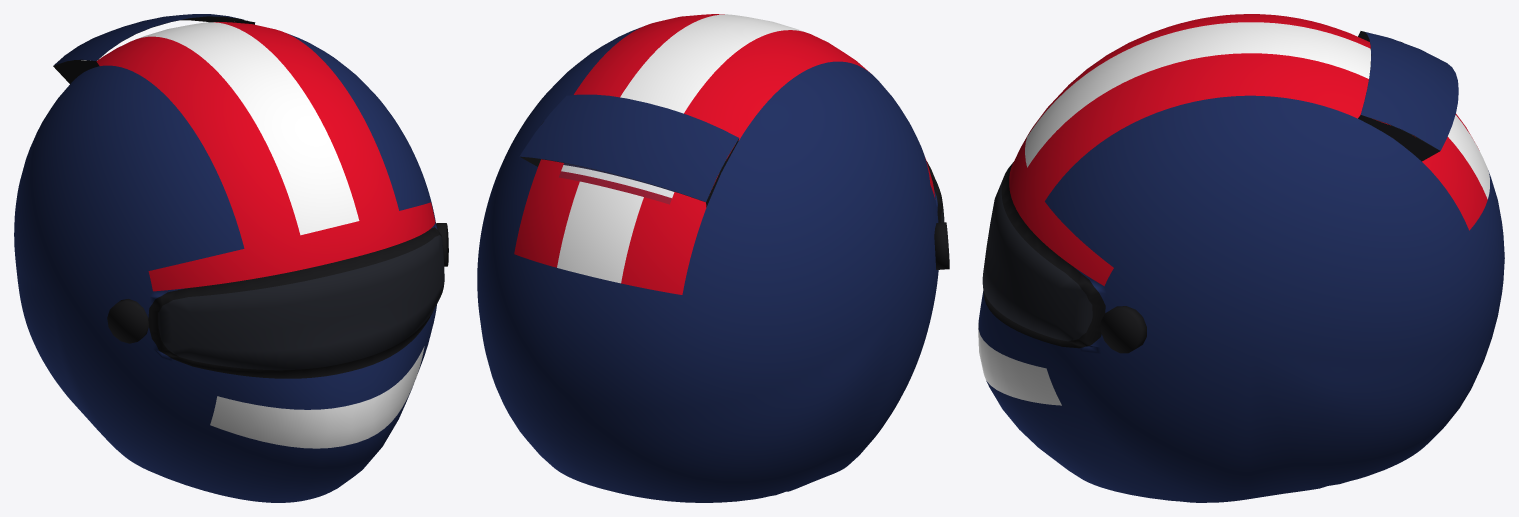
File: ALB.glb
3 renders of one model, left to right at view 1: azimuth 30°, elevation 25°; view 2: azimuth 150°, elevation 25°; view 3: azimuth 270°, elevation 25°, orthographic. The views are drawn at different scales.
Parts seen in each view (by area): view 1: helmet; view 2: helmet; view 3: helmet.
Boxes of the visible parts, box(x1,y1,x2,y2) form: helmet: box(14, 14, 448, 502); helmet: box(477, 14, 949, 502); helmet: box(978, 14, 1504, 502).
Bounding box in the file's own units: 0.256 × 0.2772 × 0.3111.
